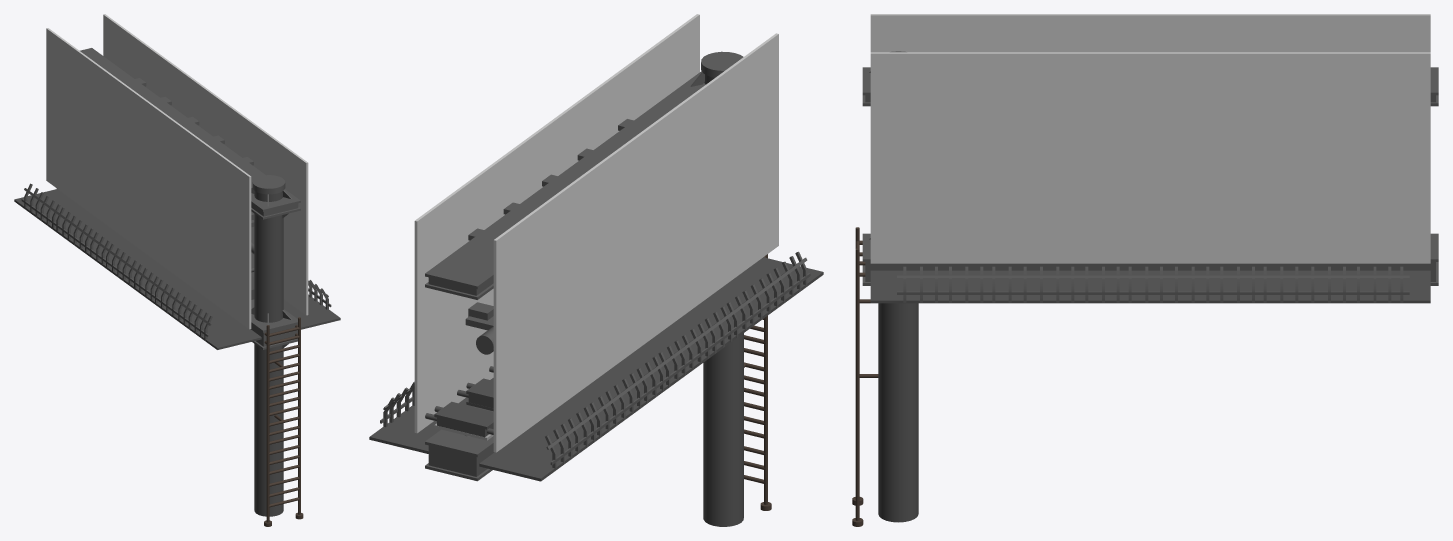
Rendered from !BillboardModelSFFBX.fbx.
3 renders of one model, left to right at view 1: azimuth 30°, elevation 25°; view 2: azimuth 150°, elevation 25°; view 3: azimuth 270°, elevation 25°, orthographic. The views are drawn at different scales.
Parts seen in each view (by area): view 1: pCylinder66; view 2: pCylinder66; view 3: pCylinder66.
Part boxes in pixels (x1,y1,x2,y2): pCylinder66: (14,14,340,526); pCylinder66: (369,14,823,526); pCylinder66: (852,14,1438,526).
Bounding box in the file's own units: 3.59 × 9.65 × 10.68.
